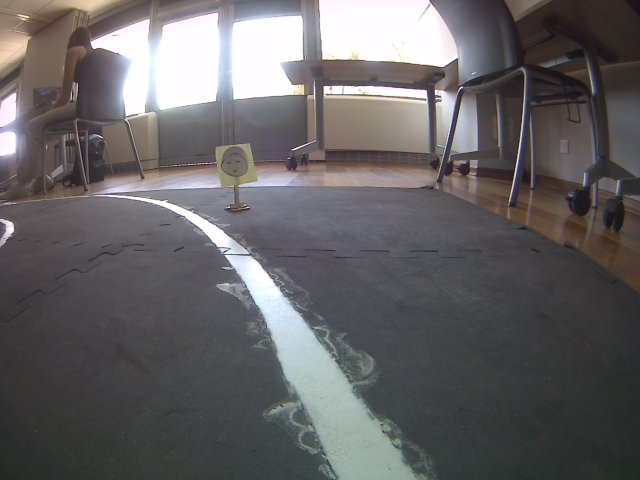Smiley: (214, 142, 258, 188)
